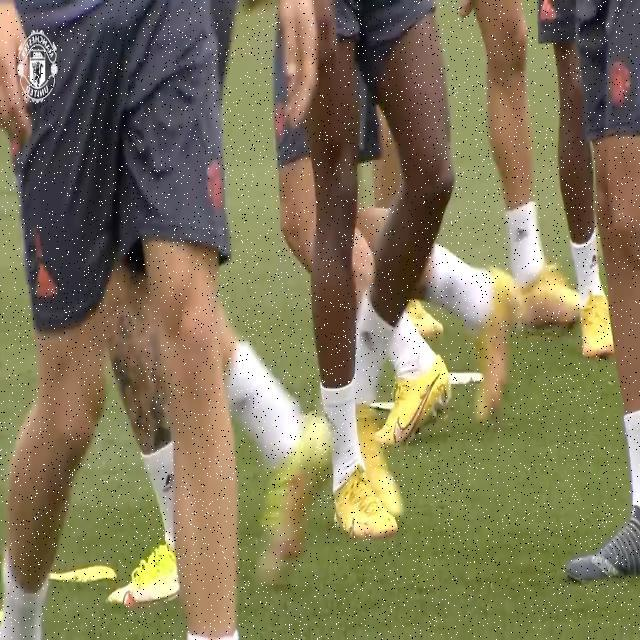Adidas: (35, 262, 59, 300)
